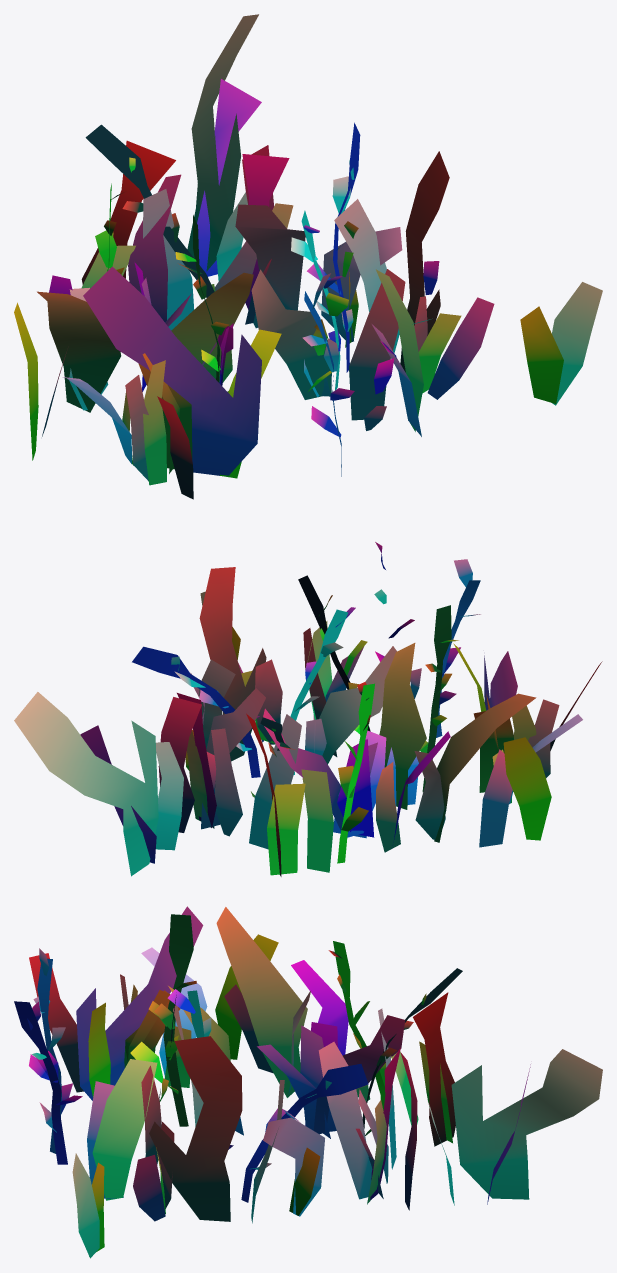
Rendered from matted_pratia_h.fbx.
The picture shows the model from 3 angles, top to bottom: view 1: azimuth 30°, elevation 25°; view 2: azimuth 150°, elevation 25°; view 3: azimuth 270°, elevation 25°; orthographic projection. The views are drawn at different scales.
Visible parts, largest first — view 1: _32e0_VarH_LOD1; view 2: _32e0_VarH_LOD1; view 3: _32e0_VarH_LOD1.
Boxes of the visible parts, box(x1,y1,x2,y2) form: _32e0_VarH_LOD1: box(14, 14, 602, 499); _32e0_VarH_LOD1: box(14, 542, 602, 876); _32e0_VarH_LOD1: box(14, 906, 602, 1258).
Bounding box in the file's own units: 17.55 × 7.76 × 19.69.
